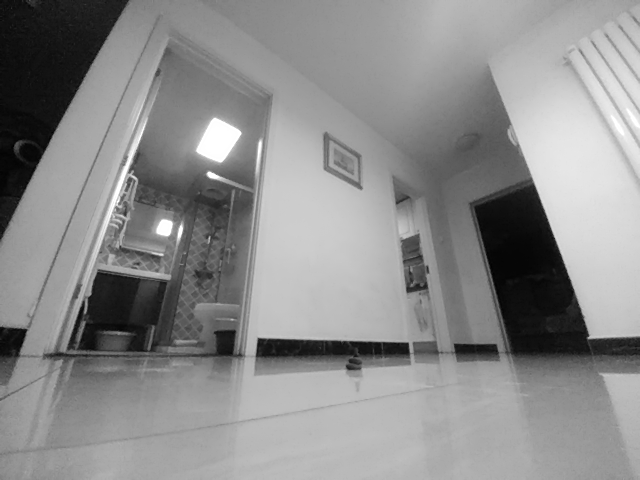pet feces: (345, 350, 362, 371)
